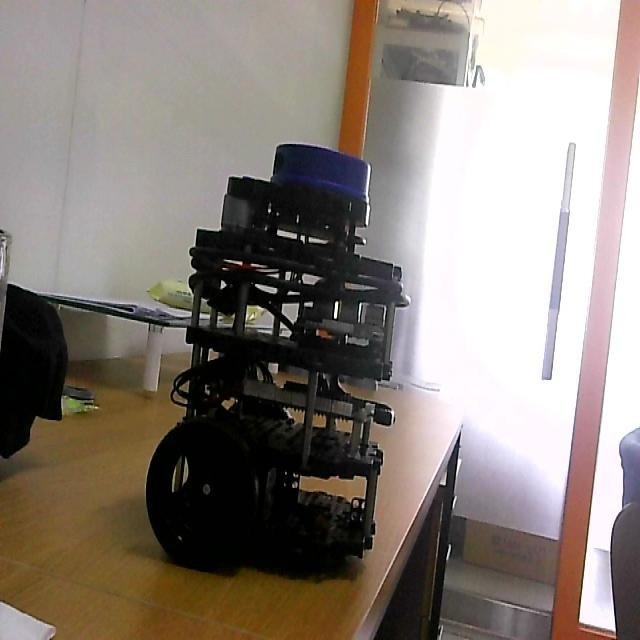turtle: (142, 133, 412, 582)
